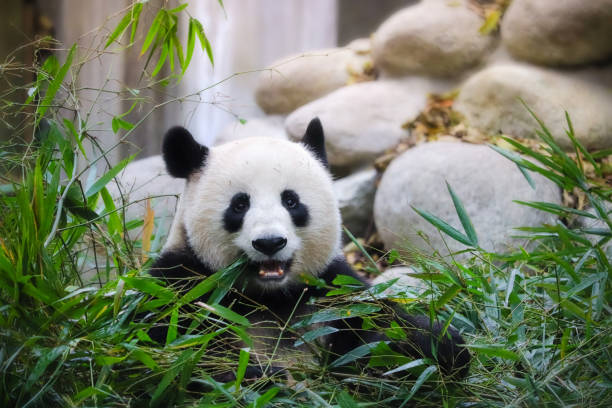panda: (127, 106, 373, 318)
